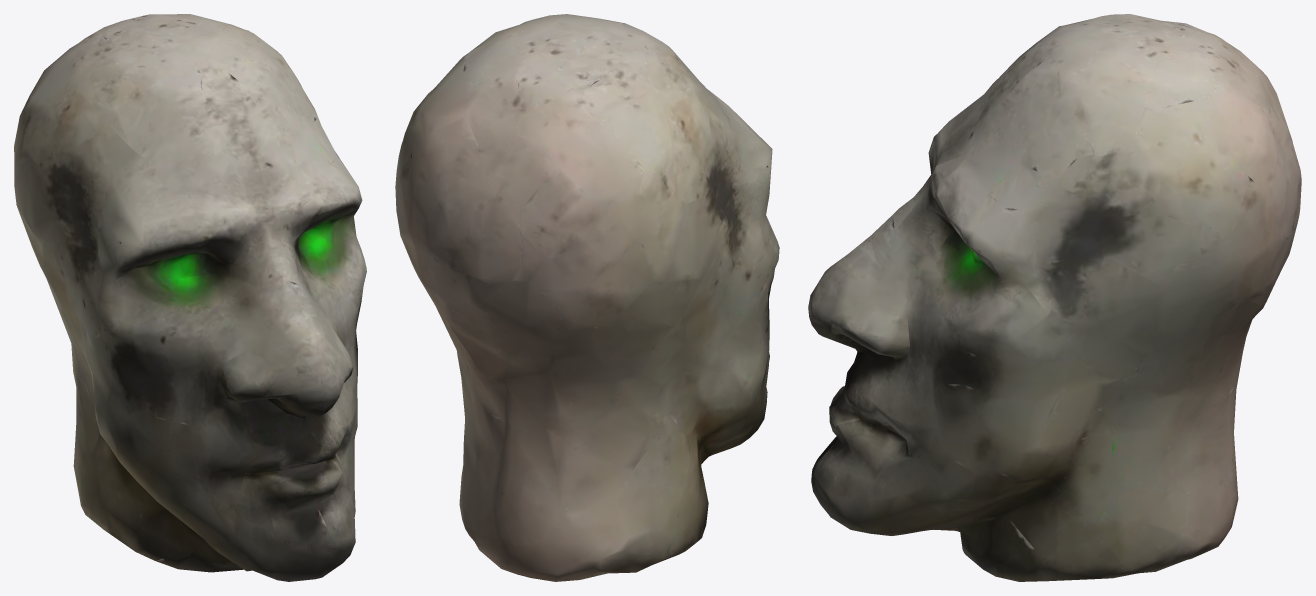
3 renders of one model, left to right at view 1: azimuth 30°, elevation 25°; view 2: azimuth 150°, elevation 25°; view 3: azimuth 270°, elevation 25°, orthographic. The views are drawn at different scales.
Visible parts, largest first — view 1: Large stone head; view 2: Large stone head; view 3: Large stone head.
Part boxes in pixels (x1,y1,x2,y2): Large stone head: [14, 14, 366, 581]; Large stone head: [395, 14, 779, 581]; Large stone head: [808, 14, 1301, 581].
Bounding box in the file's own units: 1.12 × 2 × 1.73.
Materials: 1 (1 with a texture image).
